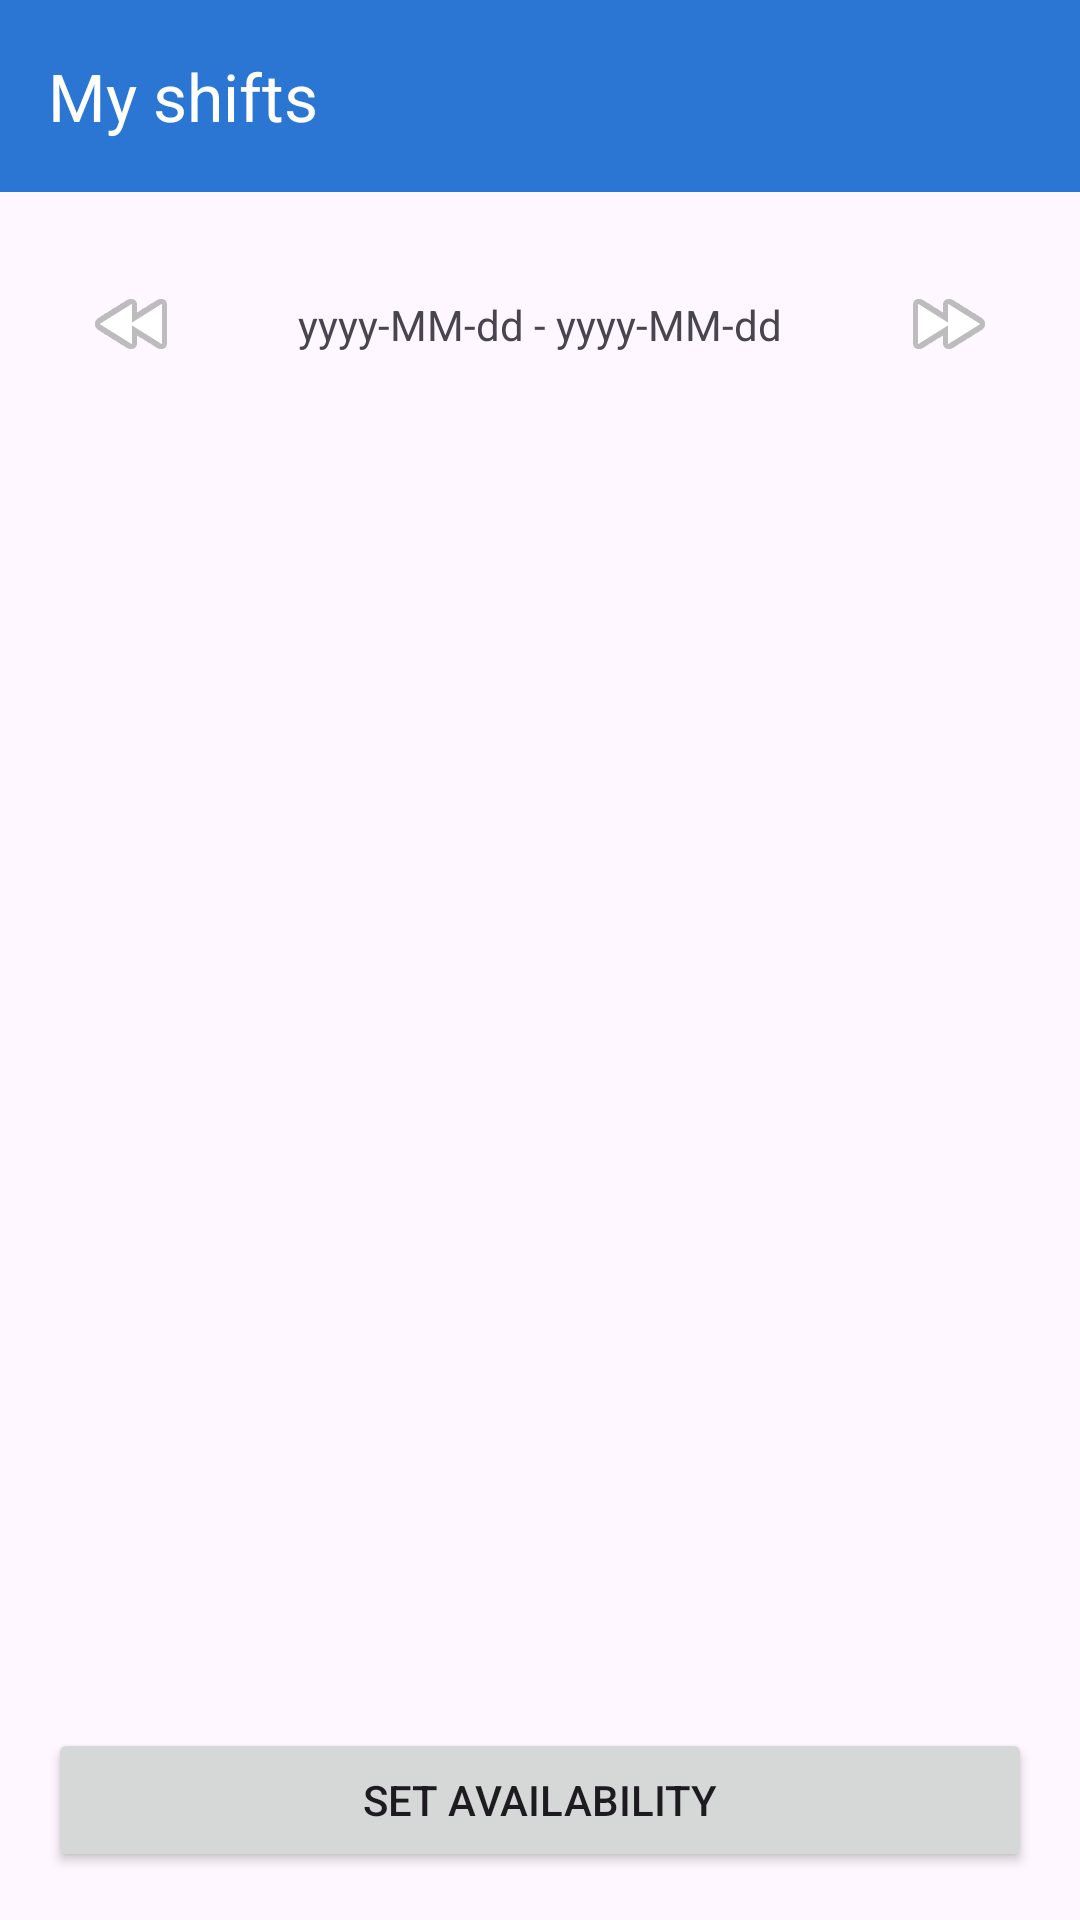

Screen size 1080px x 1920px. Icon name, then its center in pixels as (x,y):
Next week: (949,324)
Previous week: (131,324)
